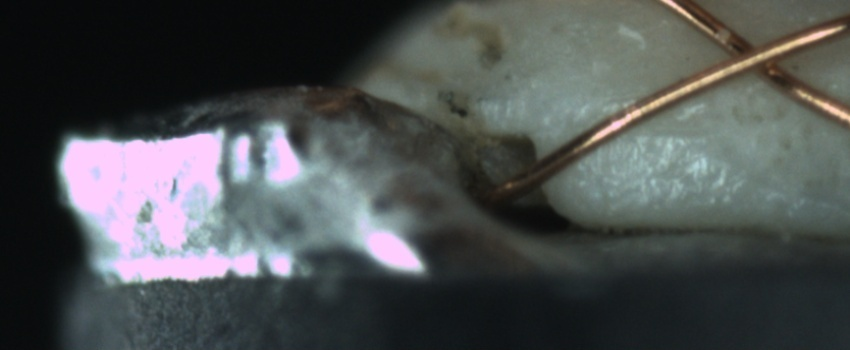CL: (707, 20, 811, 90)
DL: (615, 99, 707, 160)
